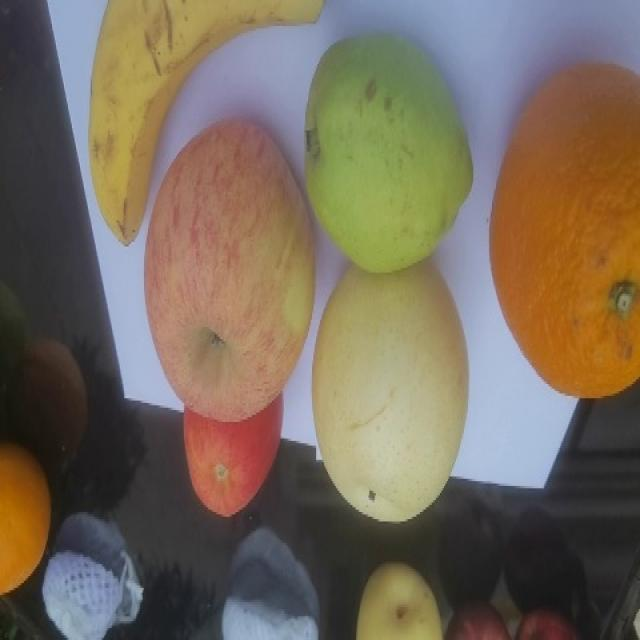Apple: (143, 118, 315, 422), (182, 391, 284, 517)
Banana: (87, 0, 324, 246)
Orange: (488, 60, 639, 399)
